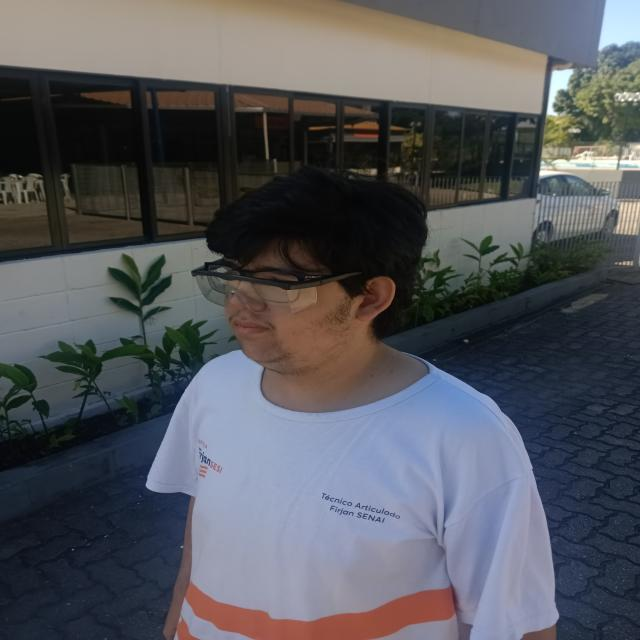oculos-epi: (180, 264, 373, 314)
